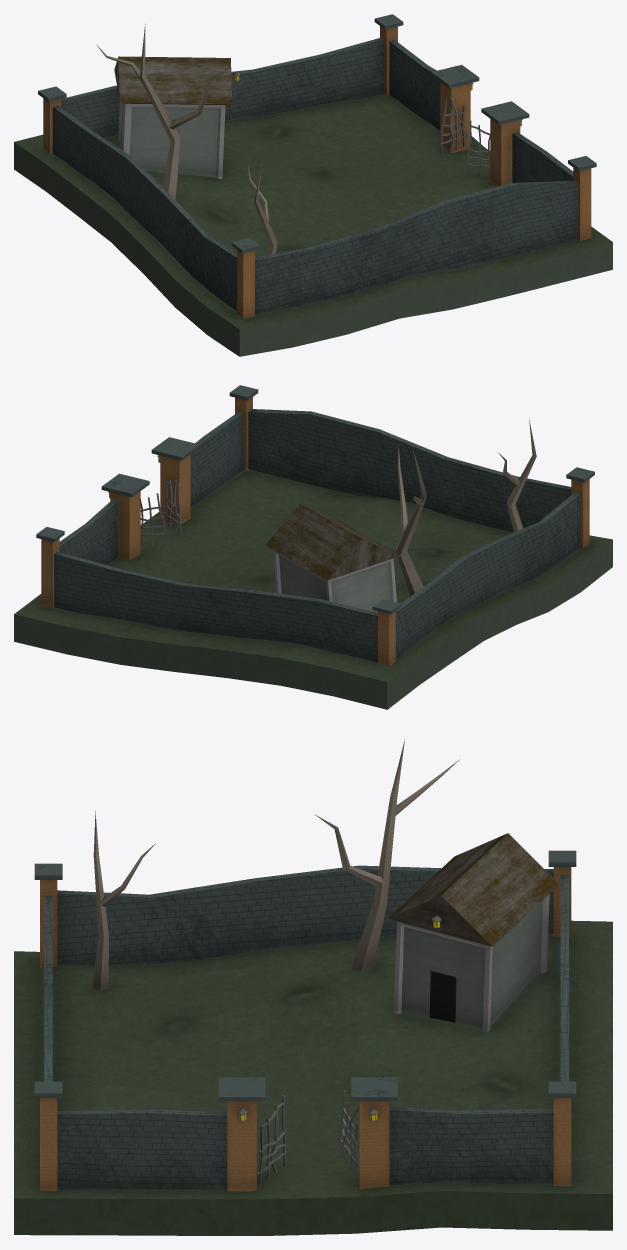
File: graveyard-cemetery-opened.fbx
The picture shows the model from 3 angles, top to bottom: view 1: azimuth 30°, elevation 25°; view 2: azimuth 150°, elevation 25°; view 3: azimuth 270°, elevation 25°; orthographic projection. The views are drawn at different scales.
Visible parts, largest first — view 1: Cementary; view 2: Cementary; view 3: Cementary.
Part boxes in pixels (x1=…): Cementary: x1=14, y1=14, x2=612, y2=356; Cementary: x1=14, y1=385, x2=612, y2=709; Cementary: x1=14, y1=739, x2=612, y2=1235.
Size of the model in its own units: 2286 by 1282 by 2391.
